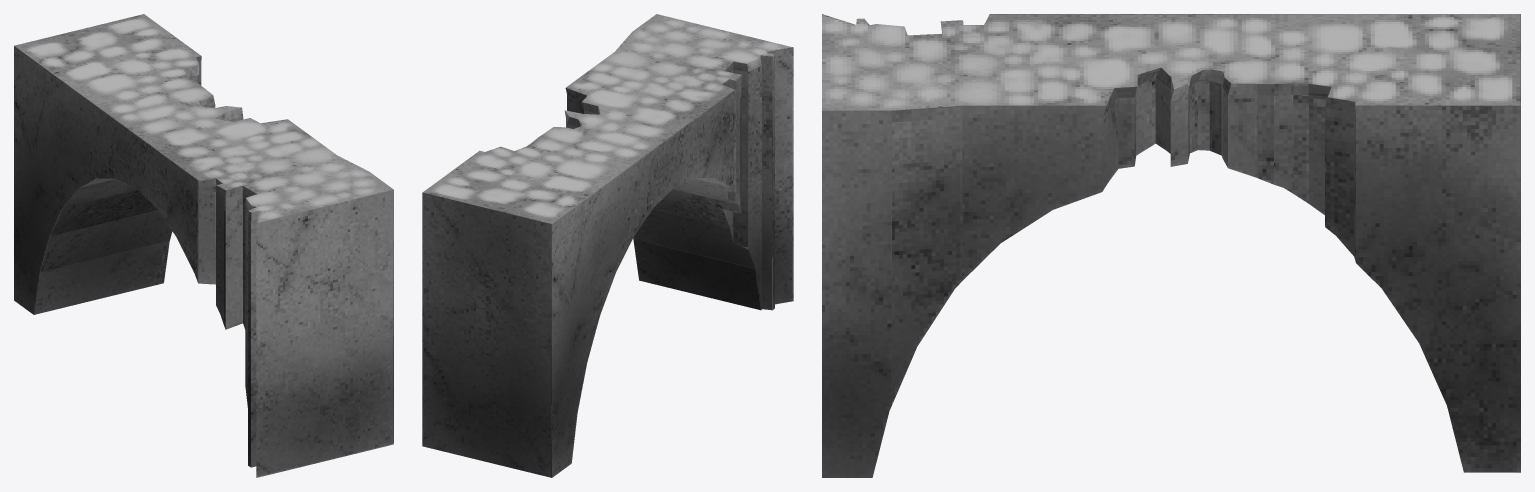
File: transitionbridge_wt.fbx
3 renders of one model, left to right at view 1: azimuth 30°, elevation 25°; view 2: azimuth 150°, elevation 25°; view 3: azimuth 270°, elevation 25°, orthographic. The views are drawn at different scales.
Visible parts, largest first — view 1: Cube; view 2: Cube; view 3: Cube.
Boxes of the visible parts, <box> form: Cube: <box>14,14,393,477</box>; Cube: <box>422,14,793,477</box>; Cube: <box>822,14,1520,477</box>.
Bounding box in the file's own units: 2155 × 3816 × 6582.
